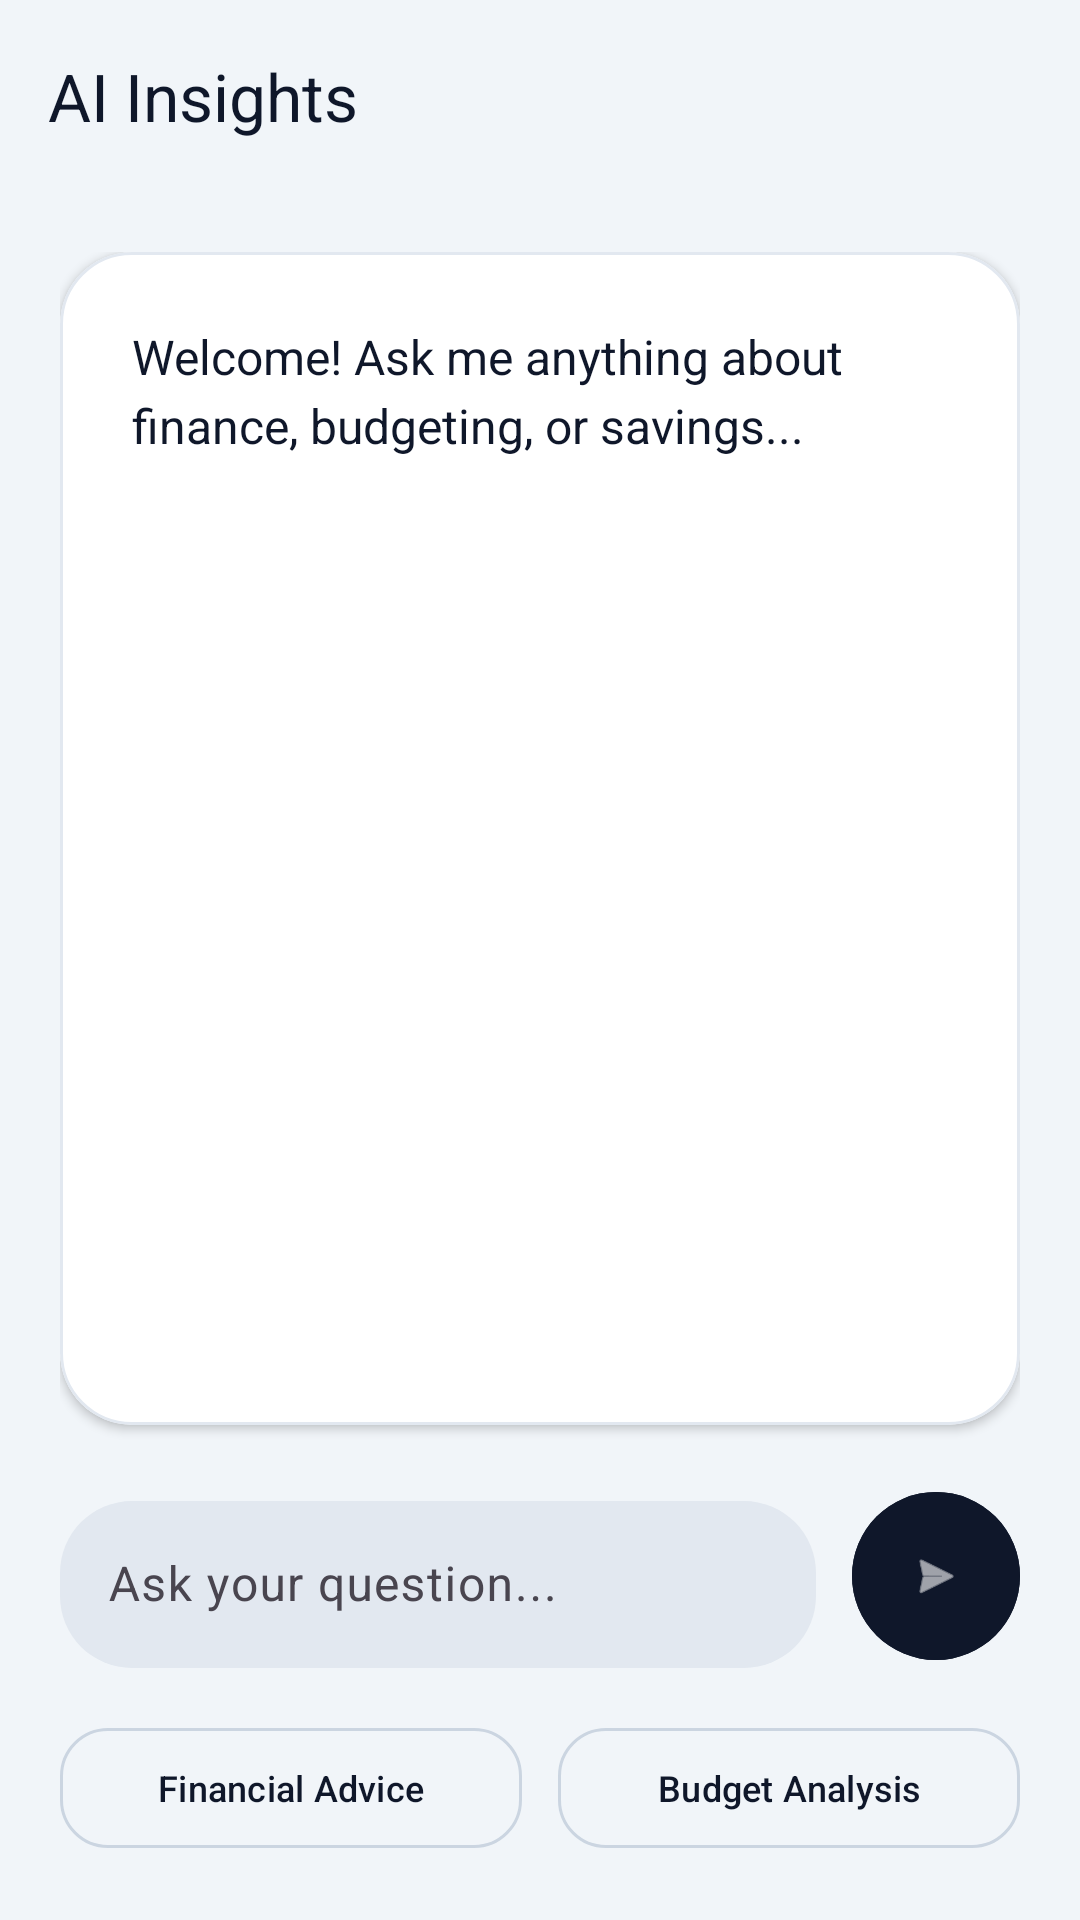

Icon click points for this 1080px x 1920px phone screenshot, format (x=x, y=y):
send: (x=936, y=1576)
